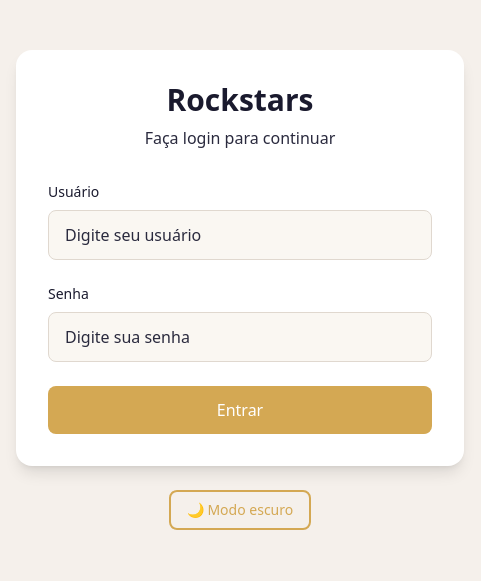
Scenario: Login › deve mostrar erro quando senha está vazia
The width and height of the screenshot is (481, 581).
Type "rockstar" into the field labelled "Usuário". click: (240, 235)
box: [48,210,432,260]
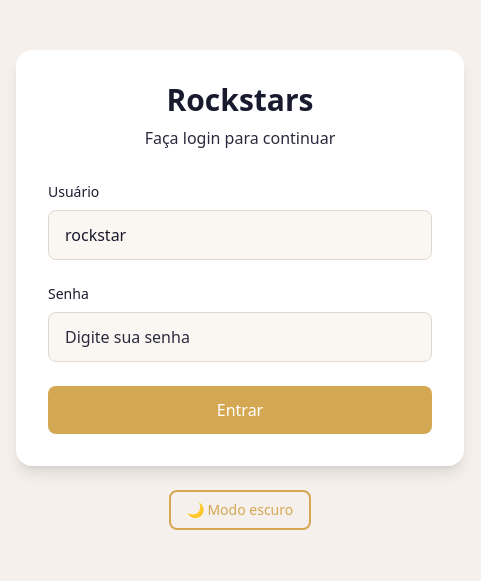
Click the button "Entrar". click: (240, 410)
box: [48,386,432,434]
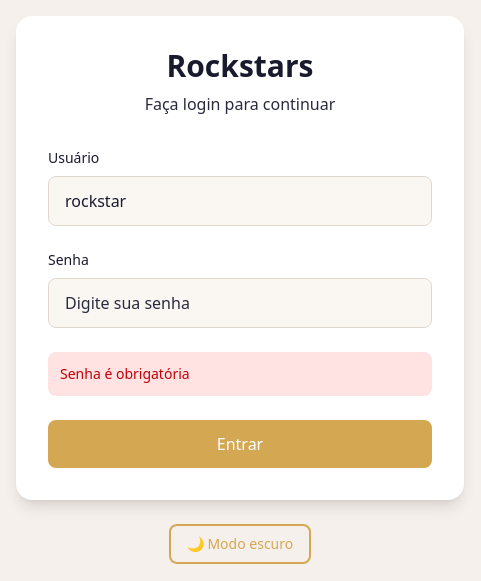
Now the text "Senha é obrigatória" is shown, box [48,352,432,396]
